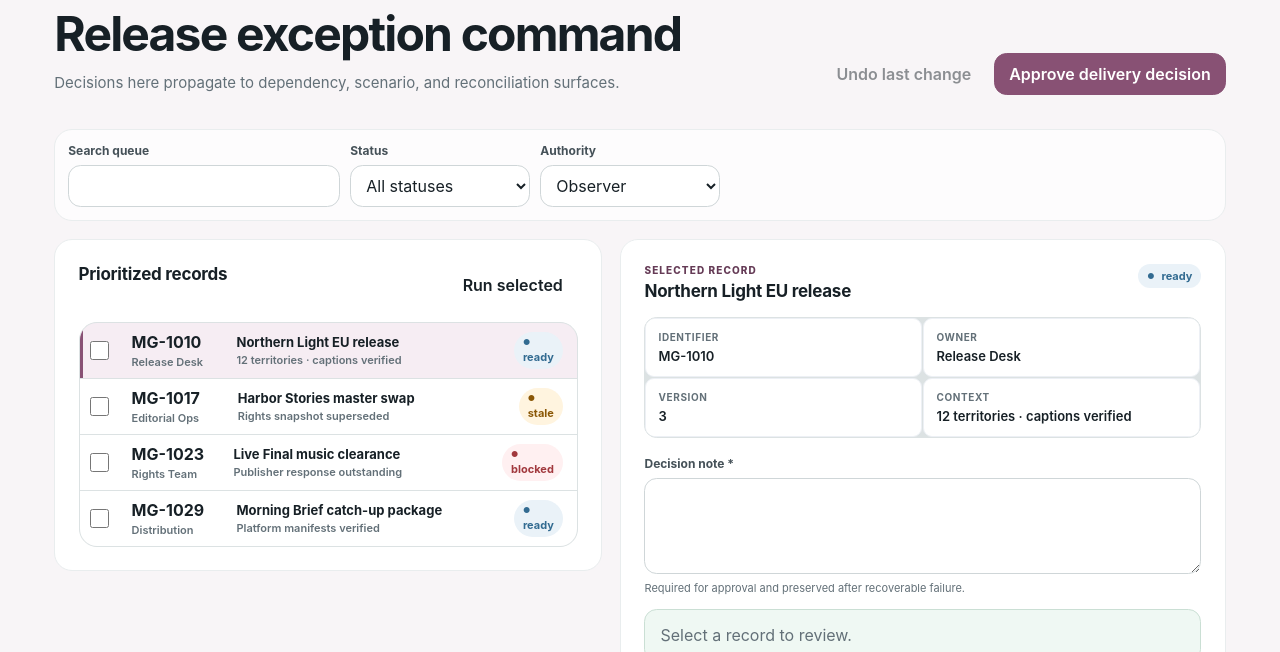
Test: Release exception command › enforces authority and validates the explanation
Click the button "Approve delivery decision".
click(1110, 74)  # box x1=994 y1=54 x2=1226 y2=96
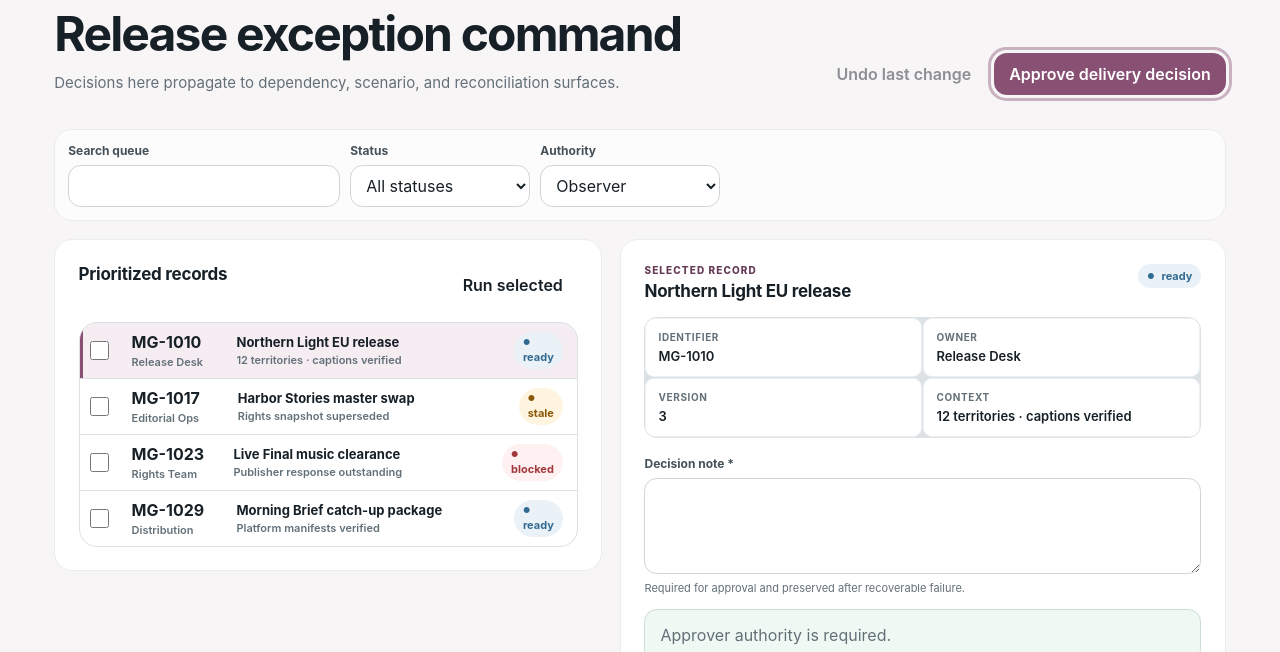
Expected: the message shows "Approver authority", x1=660 y1=625 x2=891 y2=645
Select "Approver" in the dropdown labelled "Authority" at (630, 186), box x1=540 y1=166 x2=720 y2=208
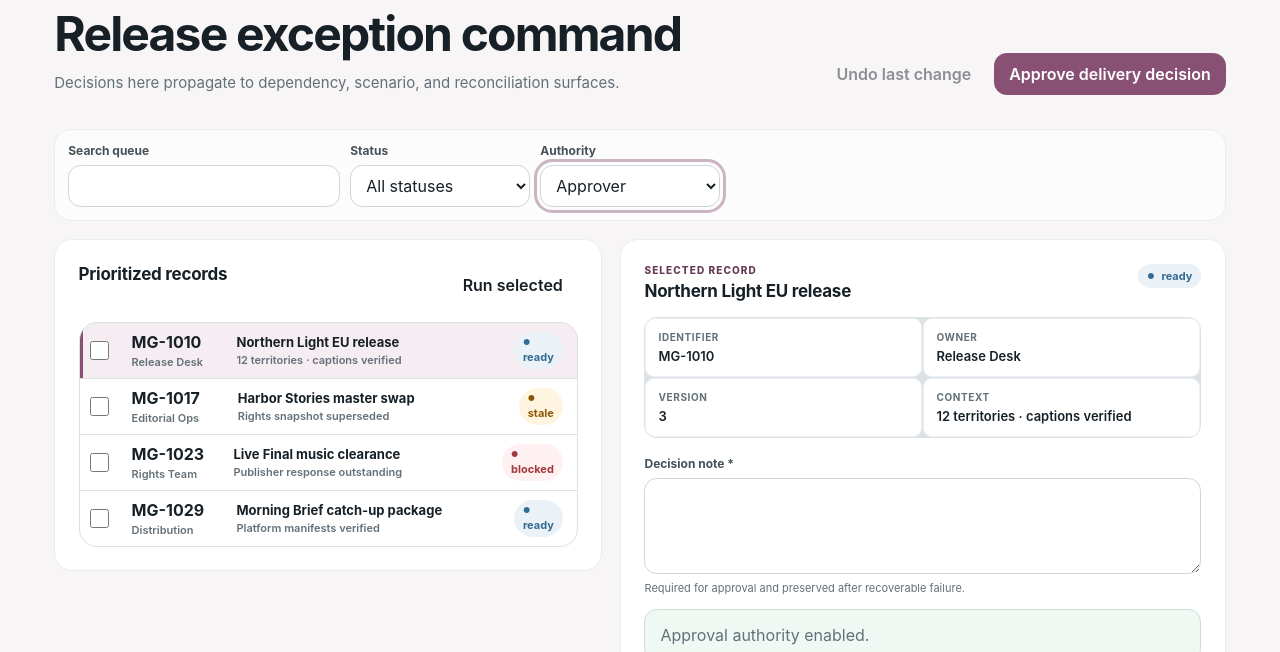
Type "short" into the text box labelled "Decision note".
click(923, 526); type("short")  # box x1=644 y1=478 x2=1201 y2=574
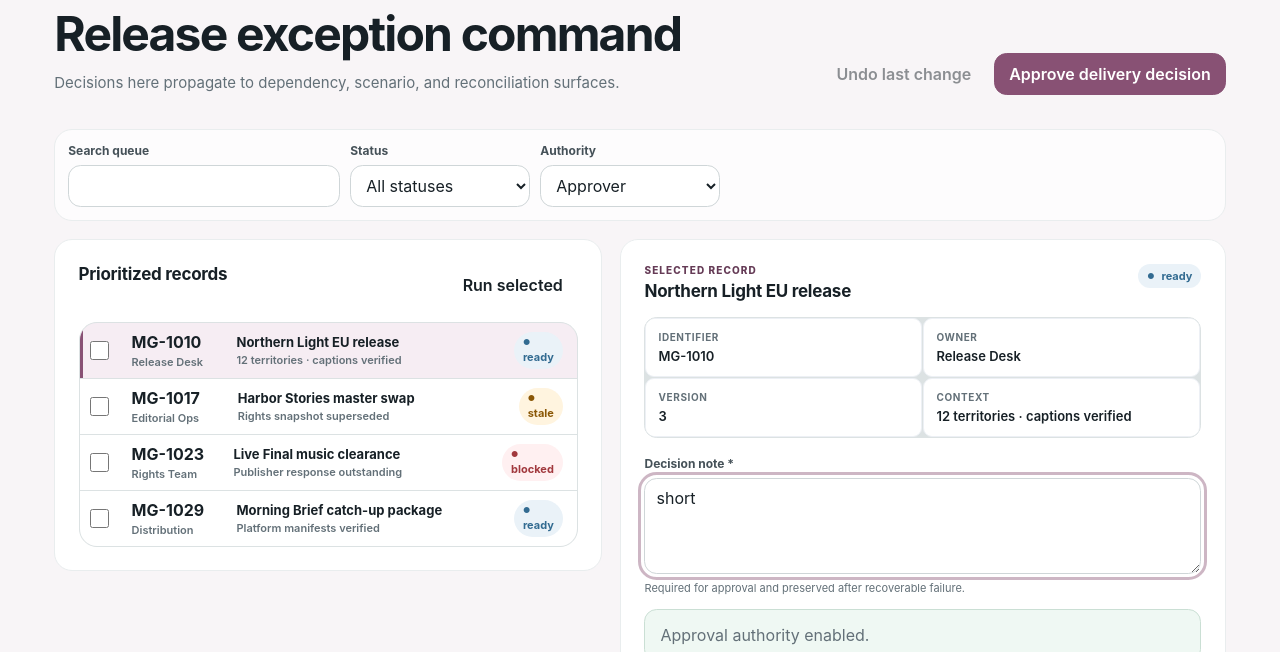
Click the button "Approve delivery decision".
click(1110, 74)  # box x1=994 y1=54 x2=1226 y2=96
(page scrolled)
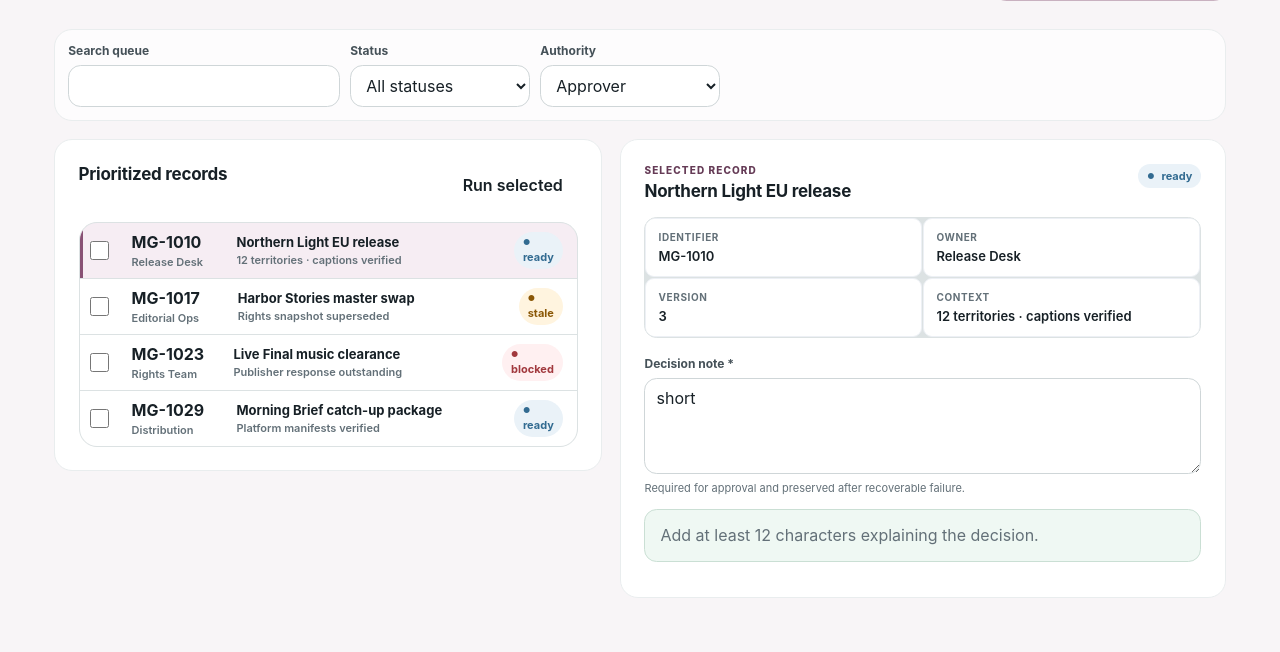
Expected: the message shows "12 characters", x1=660 y1=525 x2=1039 y2=545
